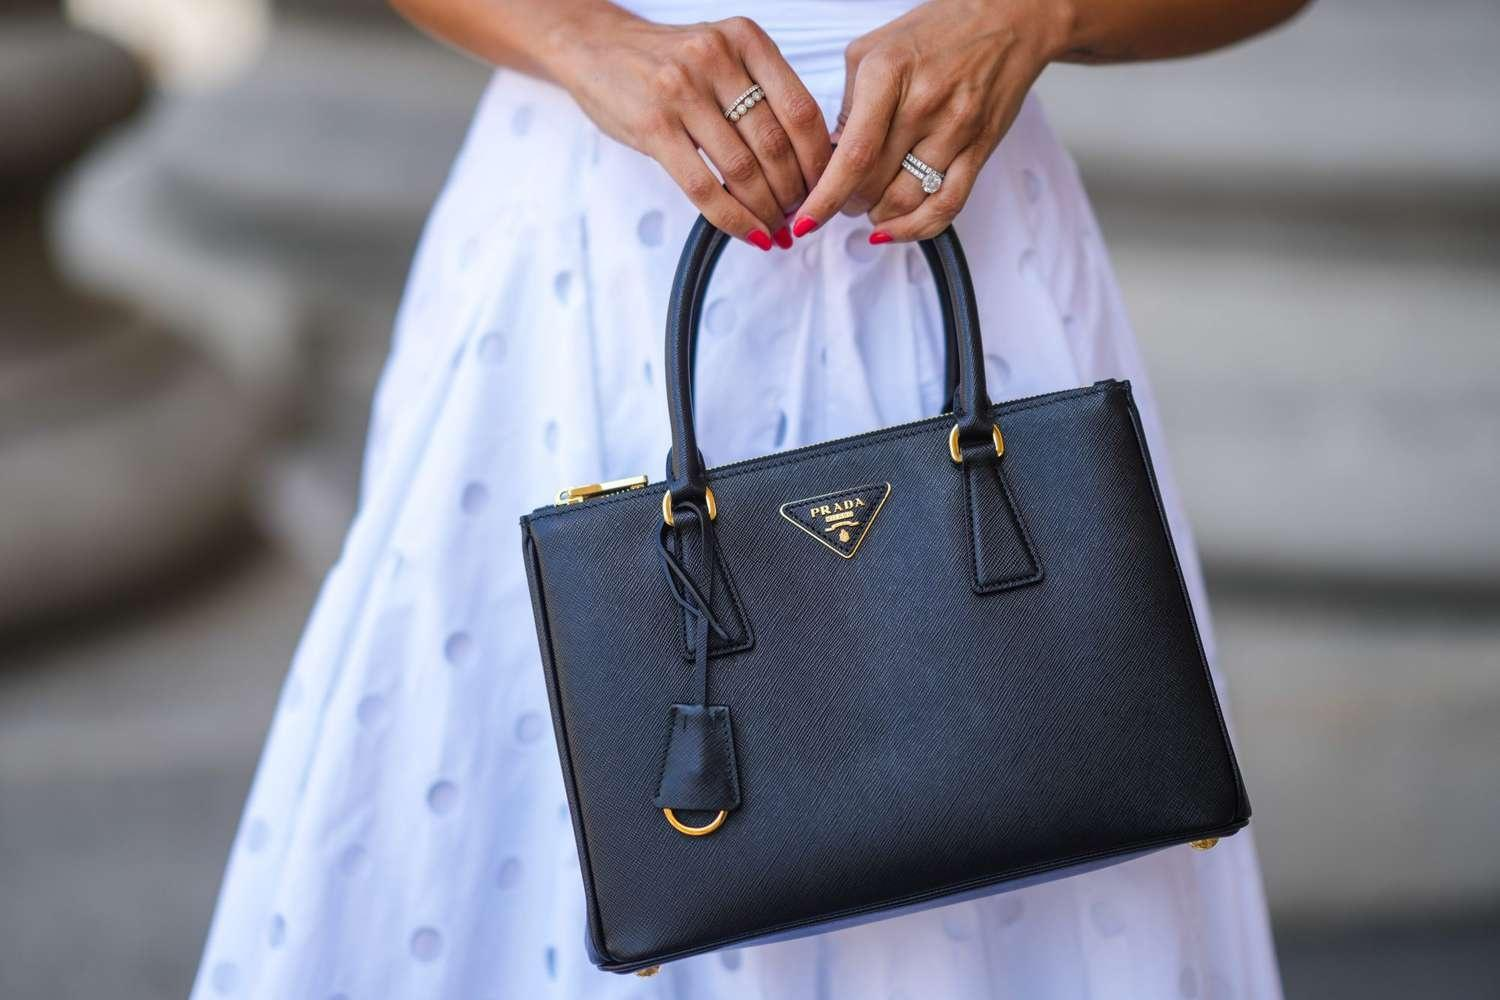PRADA: (782, 482, 888, 556)
